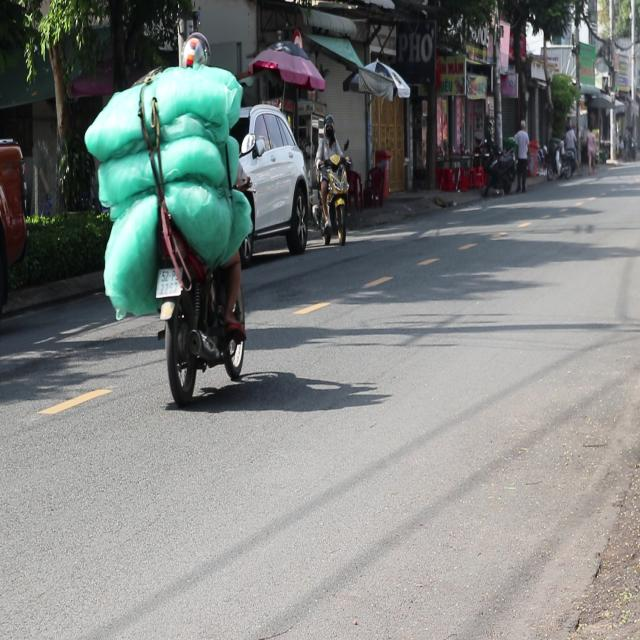licenseplate: (131, 0, 257, 406)
nohelmet: (156, 268, 182, 297)
